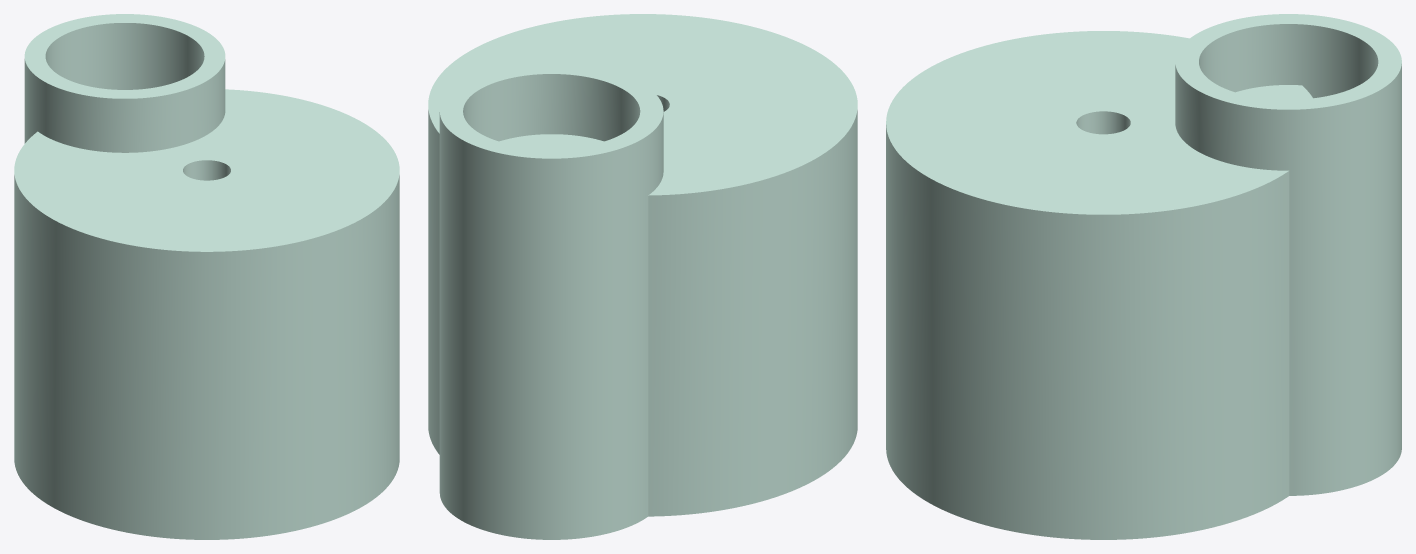
3 renders of one model, left to right at view 1: azimuth 30°, elevation 25°; view 2: azimuth 150°, elevation 25°; view 3: azimuth 270°, elevation 25°, orthographic. The views are drawn at different scales.
Parts seen in each view (by area): view 1: Renderer Node; view 2: Renderer Node; view 3: Renderer Node.
Boxes of the visible parts, <box> form: Renderer Node: <box>14,14,399,539</box>; Renderer Node: <box>428,14,857,539</box>; Renderer Node: <box>886,14,1401,539</box>.
Bounding box in the file's own units: 0.7577 × 0.7422 × 0.8985.
